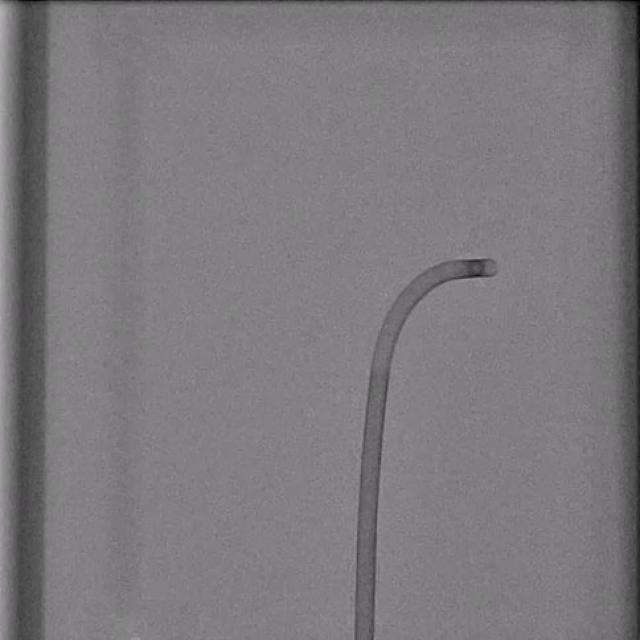bend: (371, 361, 390, 376)
entry: (356, 636, 374, 640)
marker: (464, 259, 486, 278)
tip: (490, 260, 500, 277)
